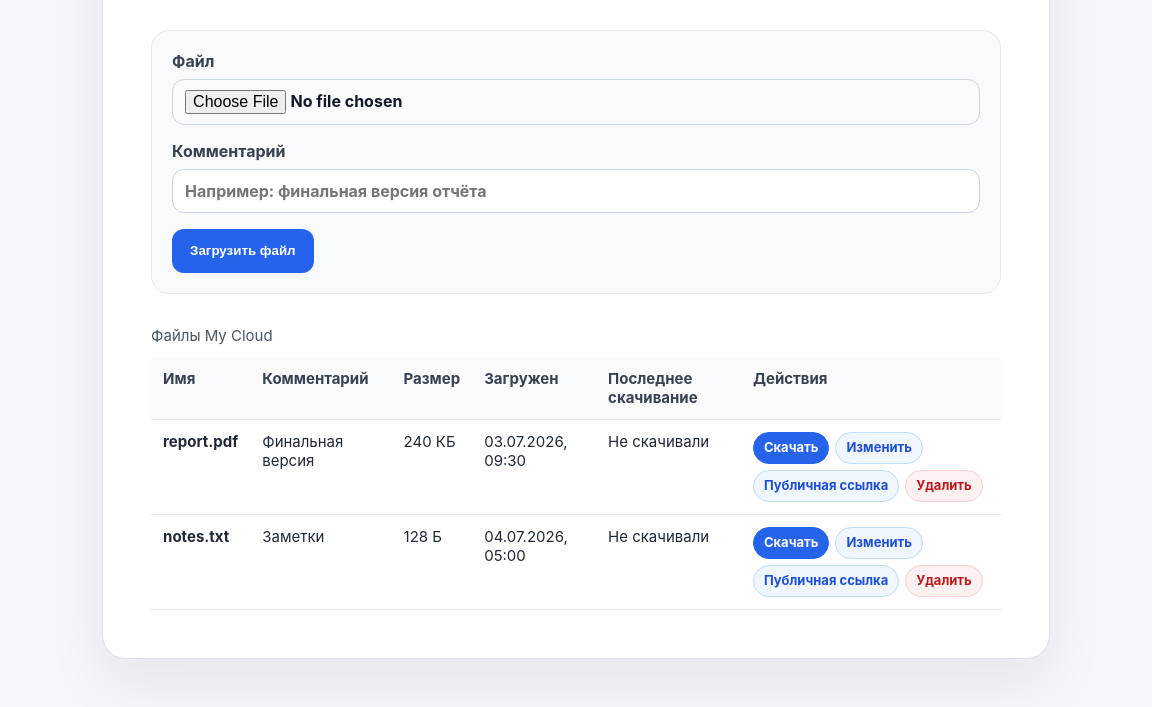
it: App › shows file metadata update error
(page scrolled)
Expected: the column heading "report.pdf" is shown, [151,419,250,514]
Click the button "Изменить" in the row of "report.pdf": click(879, 448) [835,432,923,464]
(page scrolled)
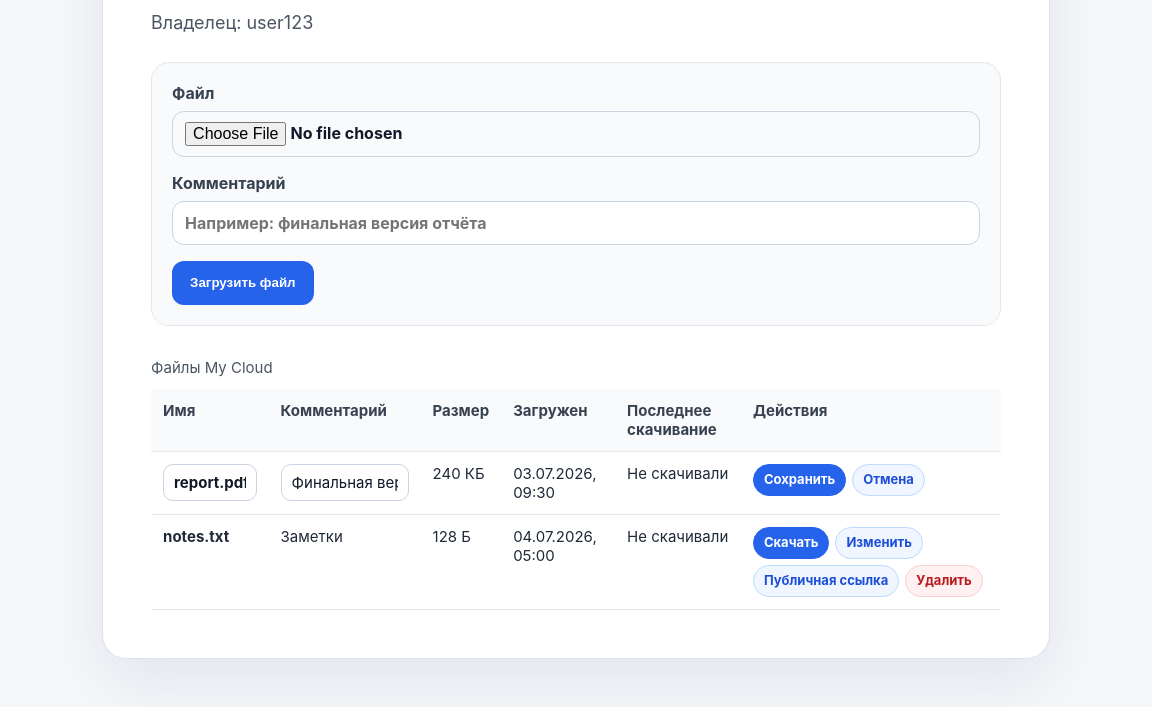
Click the button "Сохранить": click(800, 480) [753,464,846,496]
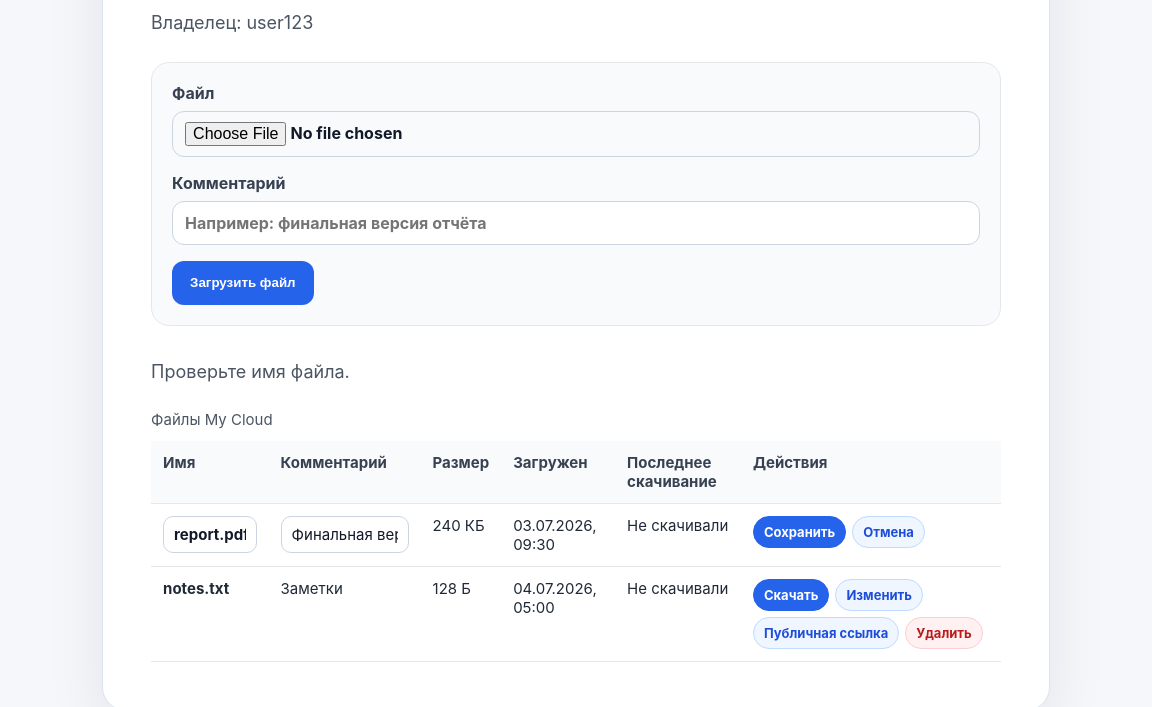
Expected: the message reads "Проверьте имя файла.", [151,361,350,382]
